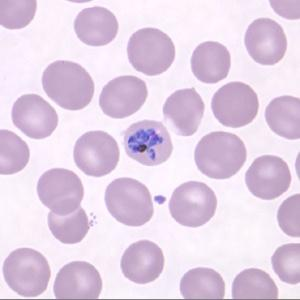Infected: (123, 119, 174, 167)
Uninfected: (194, 130, 246, 179), (42, 61, 93, 110), (167, 180, 217, 229), (2, 247, 50, 298), (105, 177, 154, 226), (127, 27, 175, 75), (99, 73, 148, 119), (162, 87, 206, 138), (211, 81, 258, 128), (74, 130, 121, 177), (10, 93, 58, 138), (37, 167, 82, 214), (244, 155, 291, 200), (243, 18, 286, 64), (121, 240, 164, 285), (189, 41, 233, 83), (47, 201, 89, 245), (55, 261, 102, 300), (74, 6, 118, 46), (263, 95, 300, 140), (232, 267, 279, 300), (179, 267, 224, 300), (0, 130, 31, 174), (271, 242, 300, 286)
